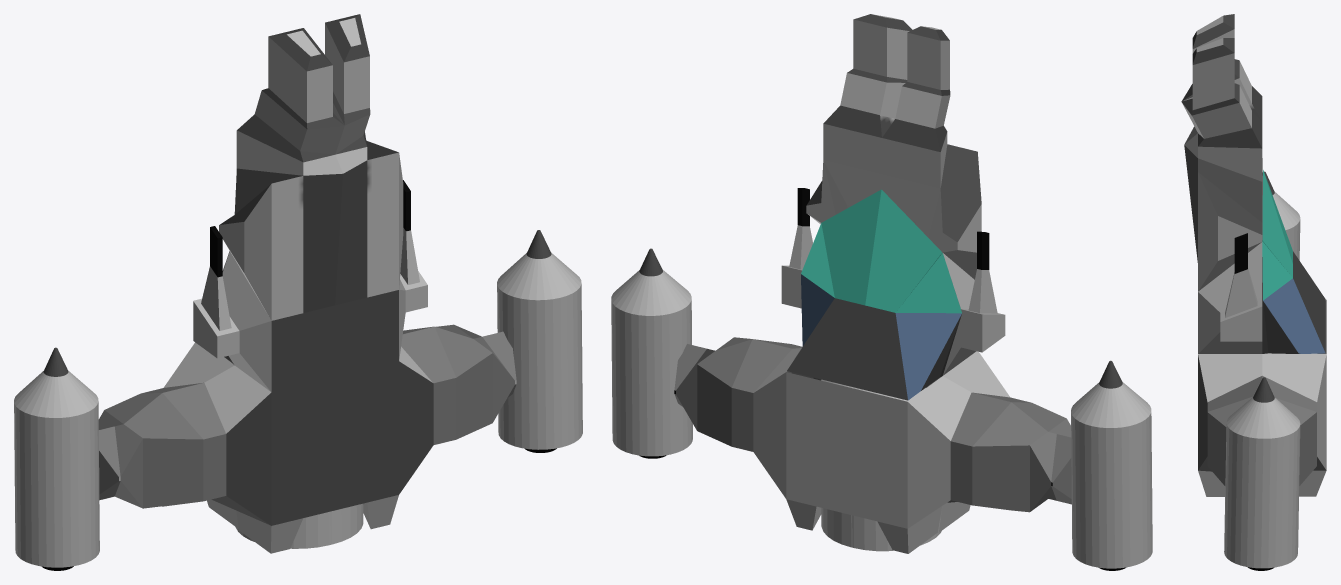
The model's file is ship1new.fbx.
3 views of the same model, side by side, from view 1: azimuth 30°, elevation 25°; view 2: azimuth 150°, elevation 25°; view 3: azimuth 270°, elevation 25° (orthographic). The views are drawn at different scales.
Visible parts, largest first — view 1: MainBody; view 2: MainBody; view 3: MainBody.
Part boxes in pixels (x1=…): MainBody: x1=14, y1=14, x2=582, y2=570; MainBody: x1=611, y1=14, x2=1152, y2=570; MainBody: x1=1181, y1=14, x2=1326, y2=570.
Bounding box in the file's own units: 436 × 394 × 113.
